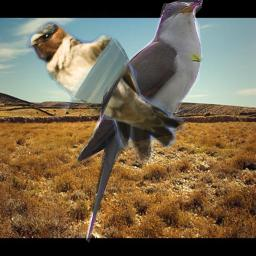Cuckoo: (75, 0, 203, 245)
Swallow: (26, 21, 186, 162)
